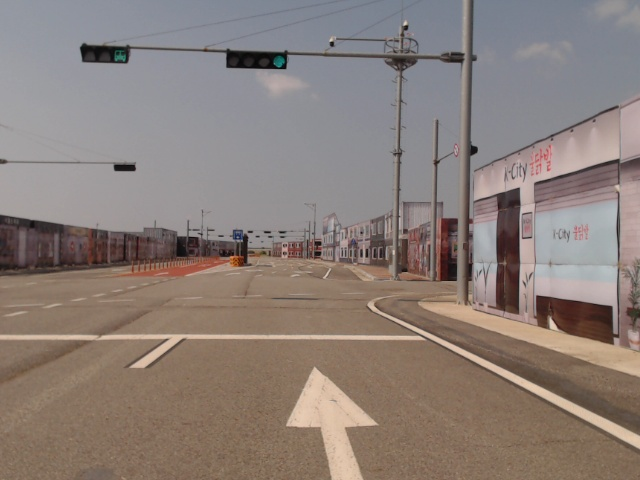straight_green_4: (224, 48, 287, 67)
